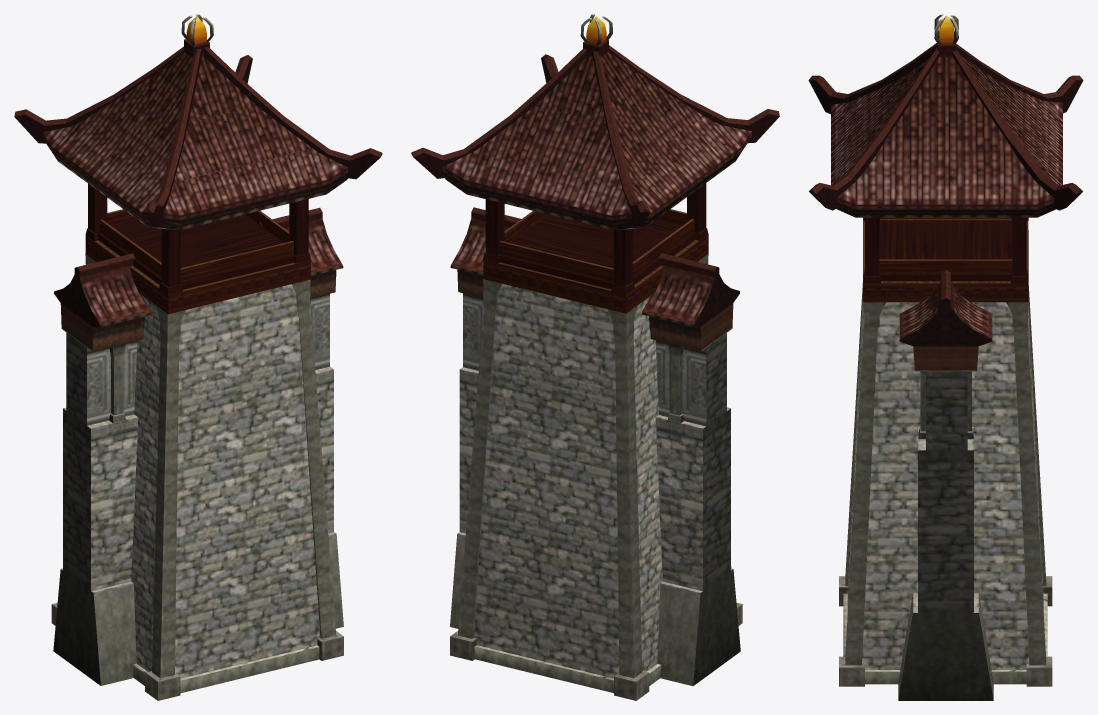
Rendered from a1-middledam-07.glb.
The picture shows the model from 3 angles, left to right: view 1: azimuth 30°, elevation 25°; view 2: azimuth 150°, elevation 25°; view 3: azimuth 270°, elevation 25°; orthographic projection.
Visible parts, largest first — view 1: b1-middledam-07-02; view 2: b1-middledam-07-02; view 3: b1-middledam-07-02.
Part boxes in pixels (<box>): b1-middledam-07-02: <box>14,14,382,700</box>; b1-middledam-07-02: <box>411,14,779,700</box>; b1-middledam-07-02: <box>808,14,1083,700</box>.
Bounding box in the file's own units: 5.02 × 12.29 × 4.9.
3 materials, 3 textured.
